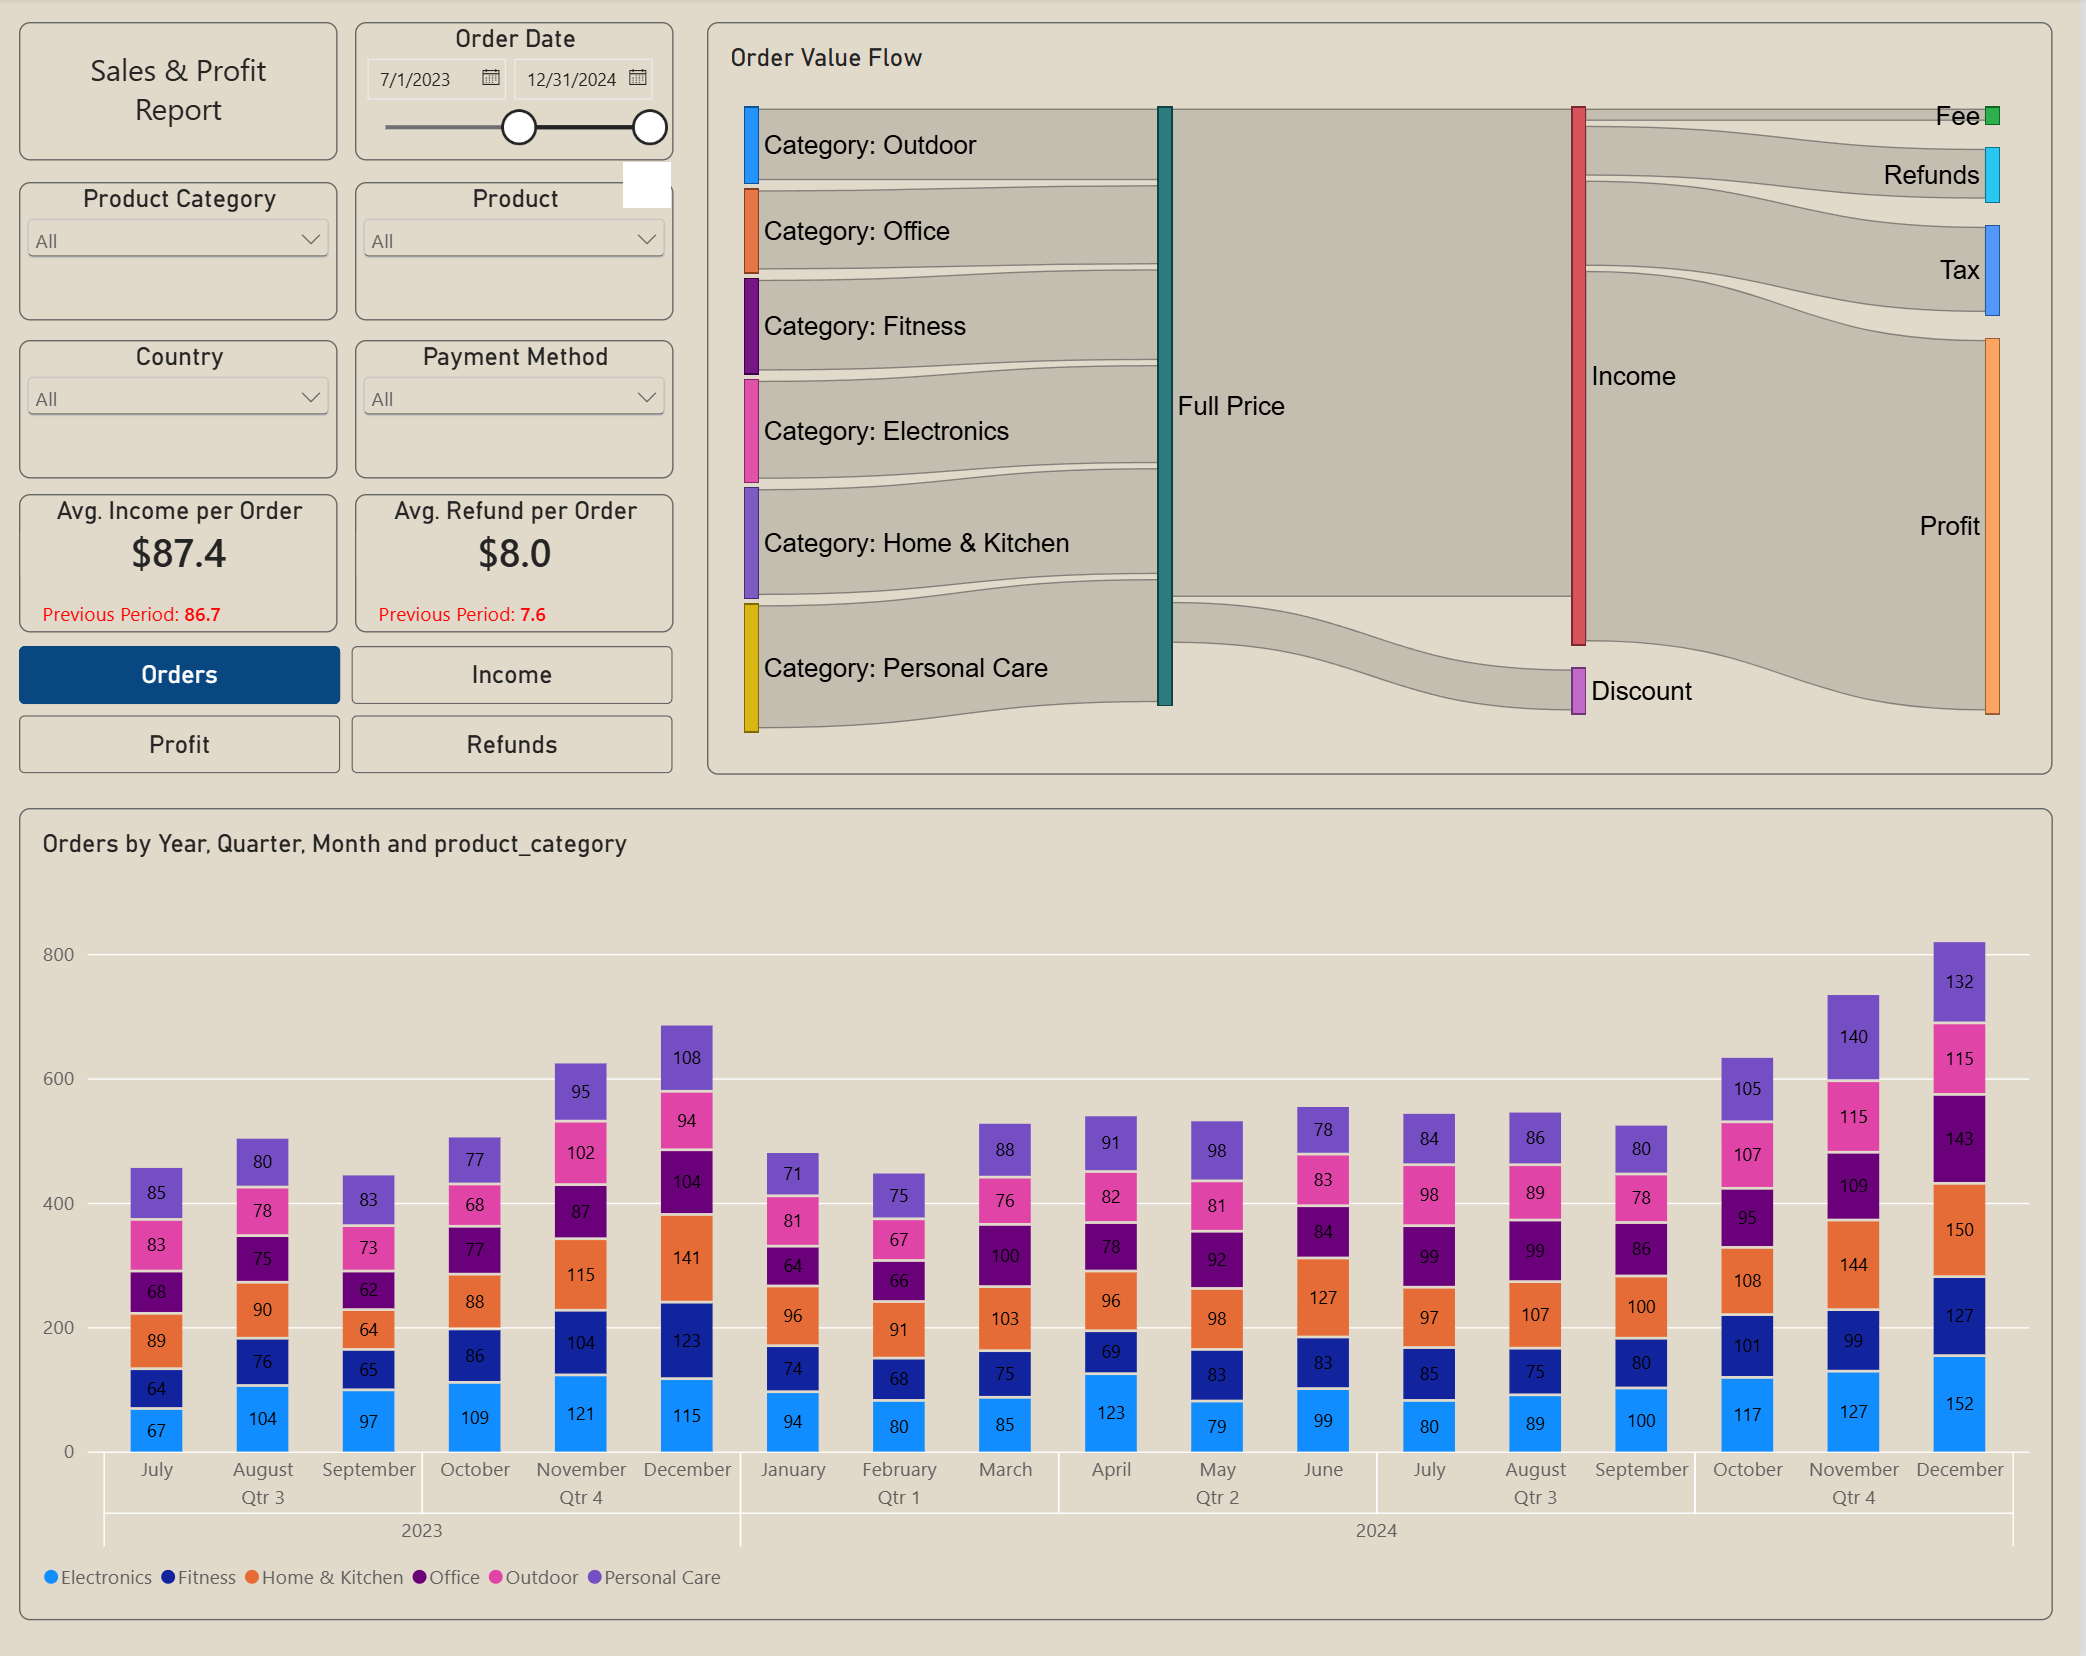

What the dashboard file says about the page in this screenshot:
{"tool":"powerbi","page":{"name":"Overview","canvas":[1500,1200],"ordinal":0},"visuals":[{"type":"columnChart","fields":{"Category":["Calendar.Date.Variation.Date Hierarchy.Year","Calendar.Date.Variation.Date Hierarchy.Quarter","Calendar.Date.Variation.Date Hierarchy.Month","Calendar.Date.Variation.Date Hierarchy.Day"],"Series":["powerbi_orders_20000.product_category"],"Y":["powerbi_orders_20000._Orders"]},"box":[13.3,586.7,1468.3,586.7],"z":0},{"type":"advancedSlicerVisual","fields":{"Values":["Parameter Selector.Parameter Selector"]},"box":[13,469.3,472.2,93.9],"z":1},{"type":"slicer","title":"Product Category","fields":{"Values":["powerbi_orders_20000.product_category"]},"box":[13.3,135,230,100],"z":2},{"type":"slicer","title":"Product","fields":{"Values":["powerbi_orders_20000.product"]},"box":[255,135,230,100],"z":3},{"type":"slicer","title":"Payment Method","fields":{"Values":["powerbi_orders_20000.payment_method"]},"box":[255,248.3,230,100],"z":4},{"type":"slicer","title":"Country","fields":{"Values":["powerbi_orders_20000.country"]},"box":[13.3,248.3,230,100],"z":5},{"type":"slicer","title":"Order Date","fields":{"Values":["Calendar.Date"]},"box":[255,18.3,230,100],"z":6},{"type":"sankey02300D1BE6F5427989F3DE31CCA9E0F32020","title":"Order Value Flow","fields":{"Source":["Sankey Flows.Source"],"Destination":["Sankey Flows.Destination"],"Weight":["Sum(Sankey Flows.Amount)"]},"box":[510,18.3,971.7,543.3],"z":7},{"type":"textbox","box":[13.3,18.3,230,100],"z":8},{"type":"cardVisual","title":"Avg. Income per Order","fields":{"Data":["powerbi_orders_20000._Avg. Income"]},"box":[13,359.6,230,100],"z":9},{"type":"cardVisual","title":"Avg. Refund per Order","fields":{"Data":["powerbi_orders_20000._Avg. Refund"]},"box":[255.6,359.6,230,100],"z":10}]}

Visuals, with their boxes in screenshot pixels (x1, y1, x2, y2), scaled from the page's 1500x1200 canvas onto the 2086x1656 screenshot:
columnChart - Calendar.Date.Variation.Date Hierarchy.Year x Calendar.Date.Variation.Date Hierarchy.Quarter: [18,810,2060,1619]
advancedSlicerVisual - Parameter Selector.Parameter Selector: [18,648,675,777]
"Product Category" slicer: [18,186,338,324]
"Product" slicer: [355,186,674,324]
"Payment Method" slicer: [355,343,674,481]
"Country" slicer: [18,343,338,481]
"Order Date" slicer: [355,25,674,163]
"Order Value Flow" sankey02300D1BE6F5427989F3DE31CCA9E0F32020: [709,25,2061,775]
textbox: [18,25,338,163]
"Avg. Income per Order" cardVisual: [18,496,338,634]
"Avg. Refund per Order" cardVisual: [355,496,675,634]
